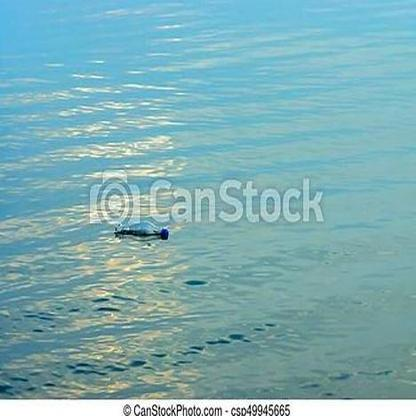plastic bottle: (115, 218, 168, 239)
